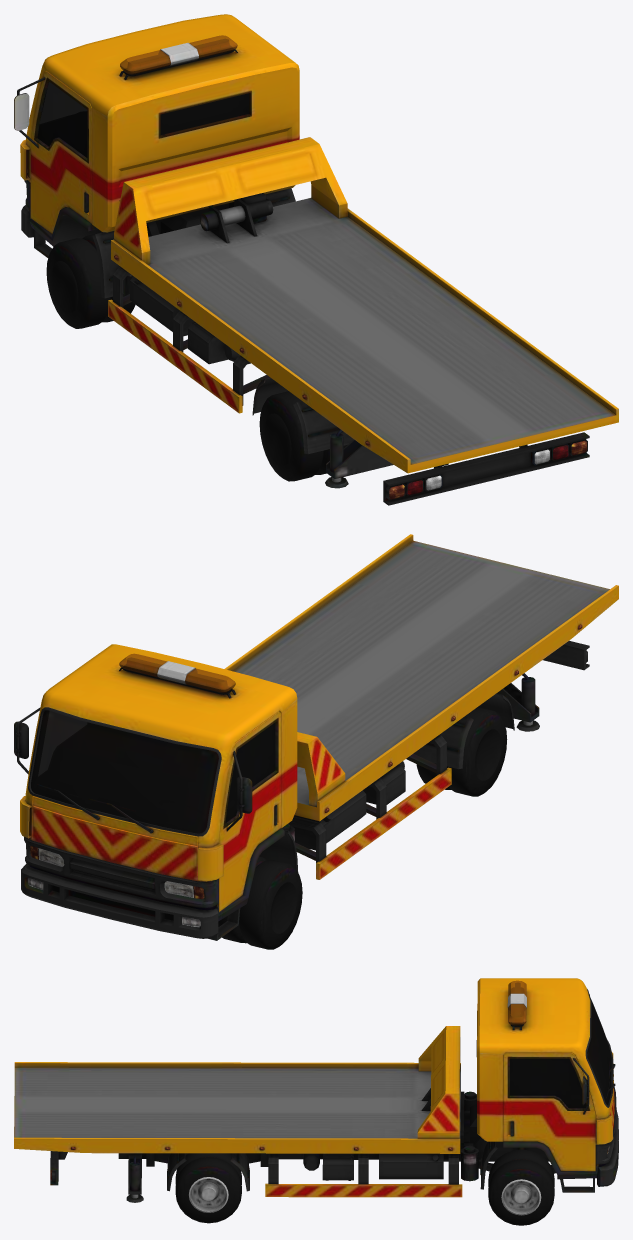
The model's file is towtruck.glb.
3 renders of one model, top to bottom at view 1: azimuth 30°, elevation 25°; view 2: azimuth 150°, elevation 25°; view 3: azimuth 270°, elevation 25°, orthographic. The views are drawn at different scales.
Visible parts, largest first — view 1: towtruck, wheel_3, wheel_0; view 2: towtruck, wheel_3, wheel_0; view 3: towtruck, wheel_1, wheel_2.
Boxes of the visible parts, x1,y1,x2,y2 form: towtruck: [14, 14, 618, 505]; wheel_3: [46, 232, 135, 328]; wheel_0: [259, 391, 347, 481]; towtruck: [14, 534, 618, 940]; wheel_3: [218, 856, 302, 949]; wheel_0: [416, 707, 507, 796]; towtruck: [14, 978, 618, 1202]; wheel_1: [488, 1149, 554, 1225]; wheel_2: [175, 1153, 241, 1223].
Bounding box in the file's own units: 2.48 × 2.5 × 7.26.
4 materials, 4 textured.
